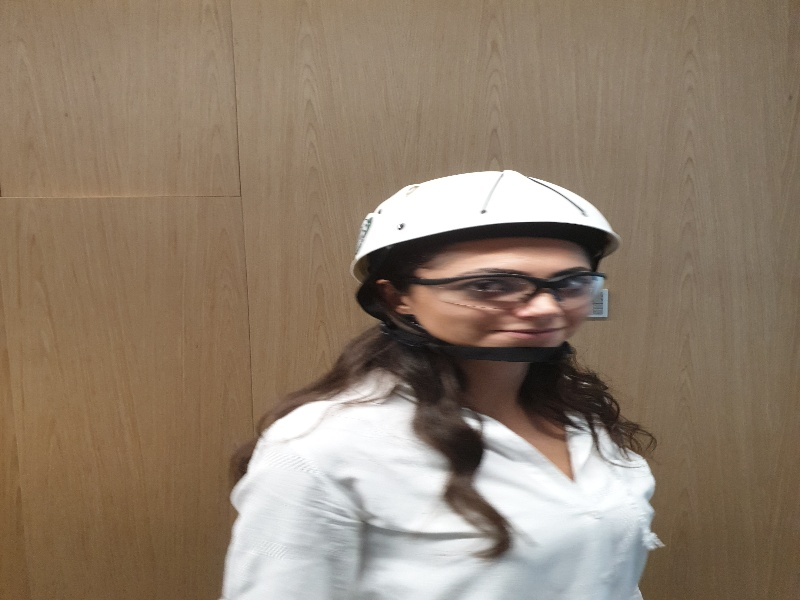Baret: (354, 169, 622, 248)
Gozluk: (367, 273, 607, 303)
